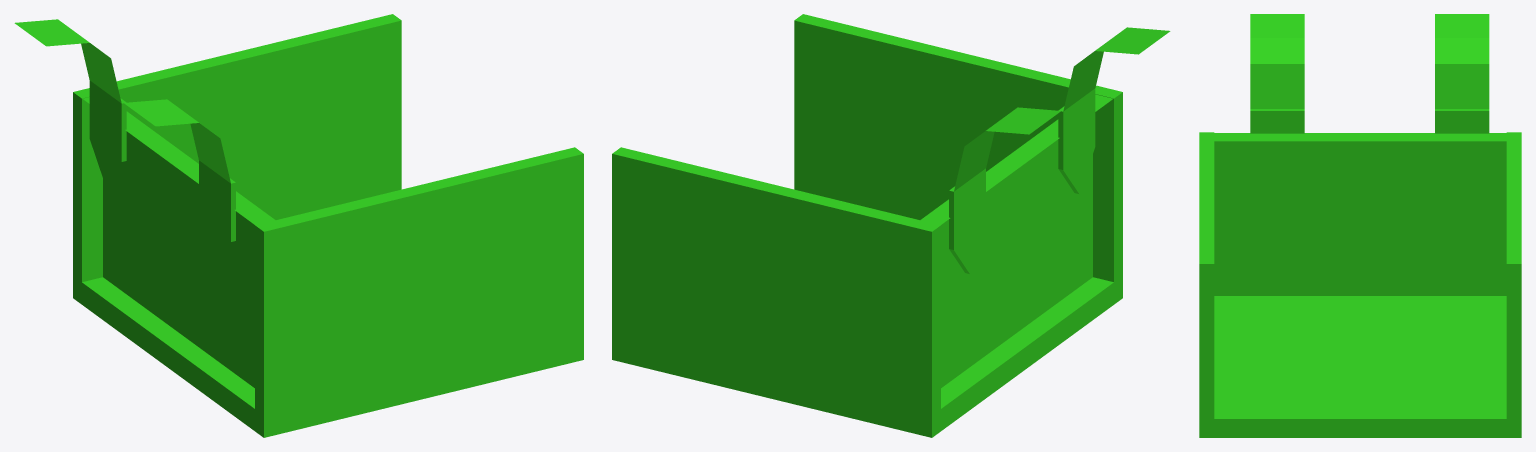
3 renders of one model, left to right at view 1: azimuth 30°, elevation 25°; view 2: azimuth 150°, elevation 25°; view 3: azimuth 270°, elevation 25°, orthographic. The views are drawn at different scales.
Visible parts, largest first — view 1: Cube.002; view 2: Cube.002; view 3: Cube.002.
Part boxes in pixels (x1=…): Cube.002: x1=14, y1=14, x2=583, y2=437; Cube.002: x1=612, y1=14, x2=1170, y2=437; Cube.002: x1=1199, y1=14, x2=1521, y2=437.
Size of the model in its own units: 112 by 83.22 by 93.42.
